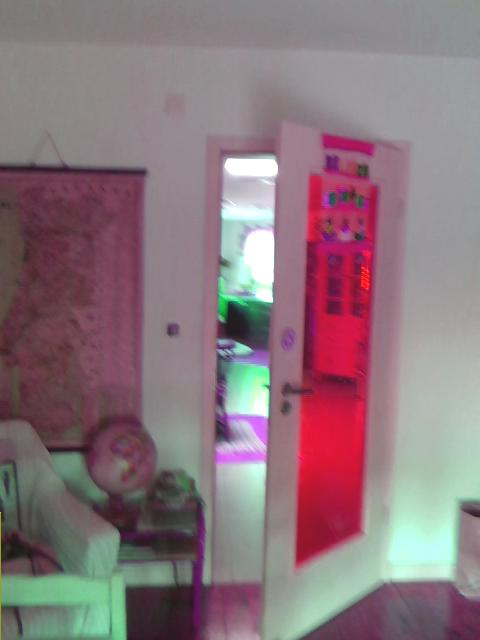semi_door: (197, 116, 411, 639)
